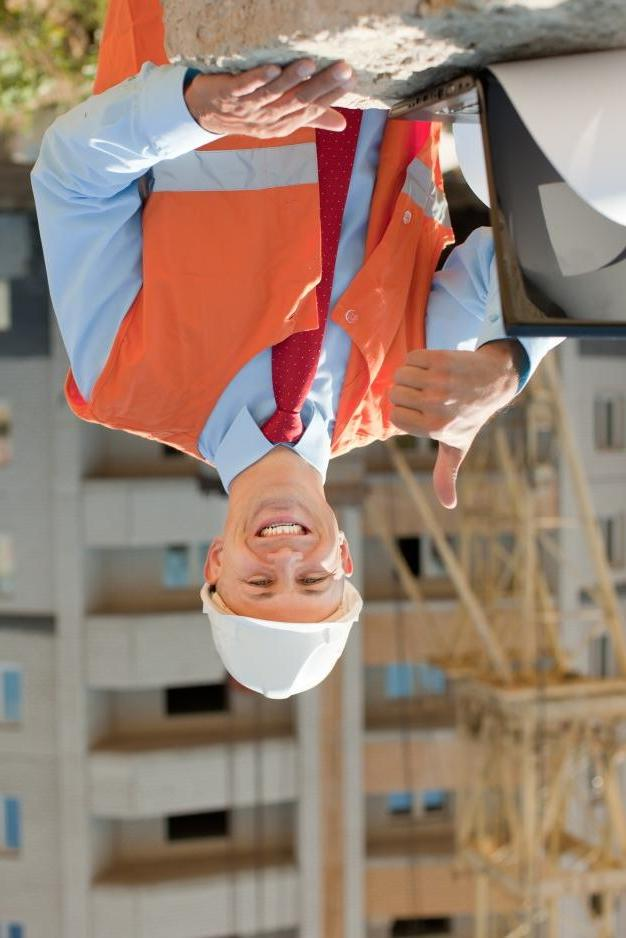thumbsdown: (389, 349, 469, 510)
